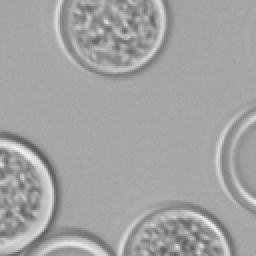picoshell: (60, 0, 166, 74), (0, 136, 56, 254), (118, 204, 232, 254), (214, 108, 254, 212), (28, 230, 112, 254)
